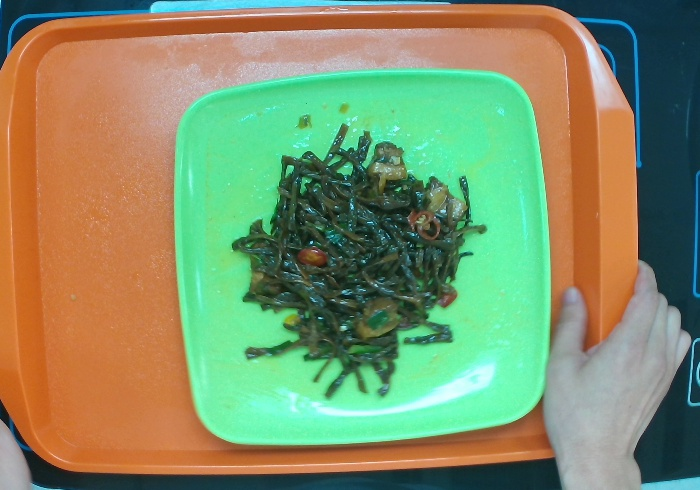ZNLD-Lv_Fang_Pan: (170, 65, 556, 450)
